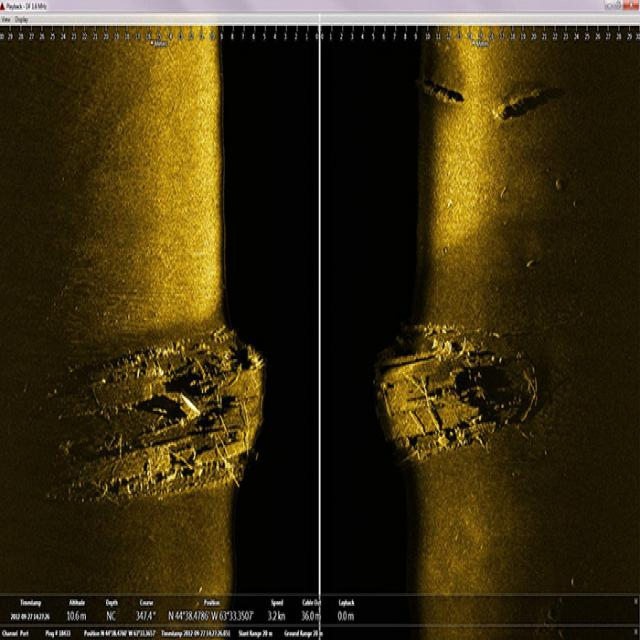ship: (71, 322, 266, 497), (370, 320, 535, 458)
